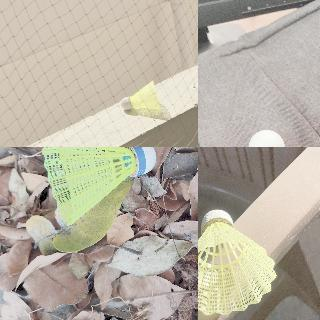shuttlecock: (41, 147, 157, 226), (198, 209, 277, 316), (121, 80, 161, 110), (243, 129, 310, 146)
